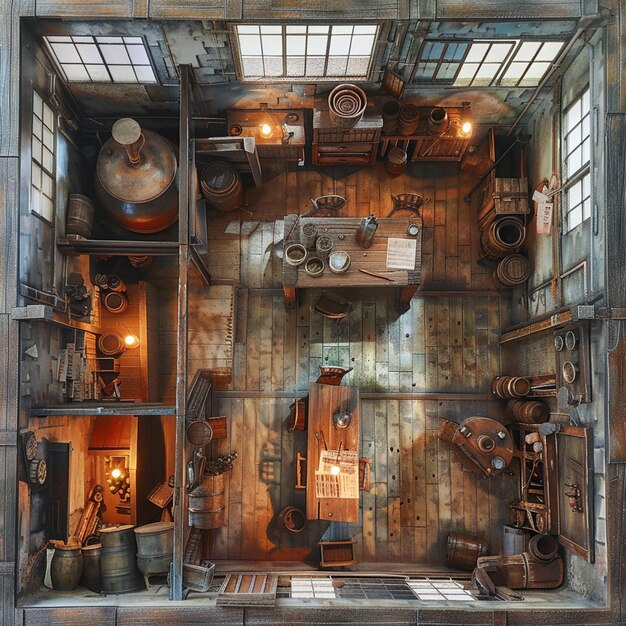not a gesture sign: (96, 109, 526, 626)
